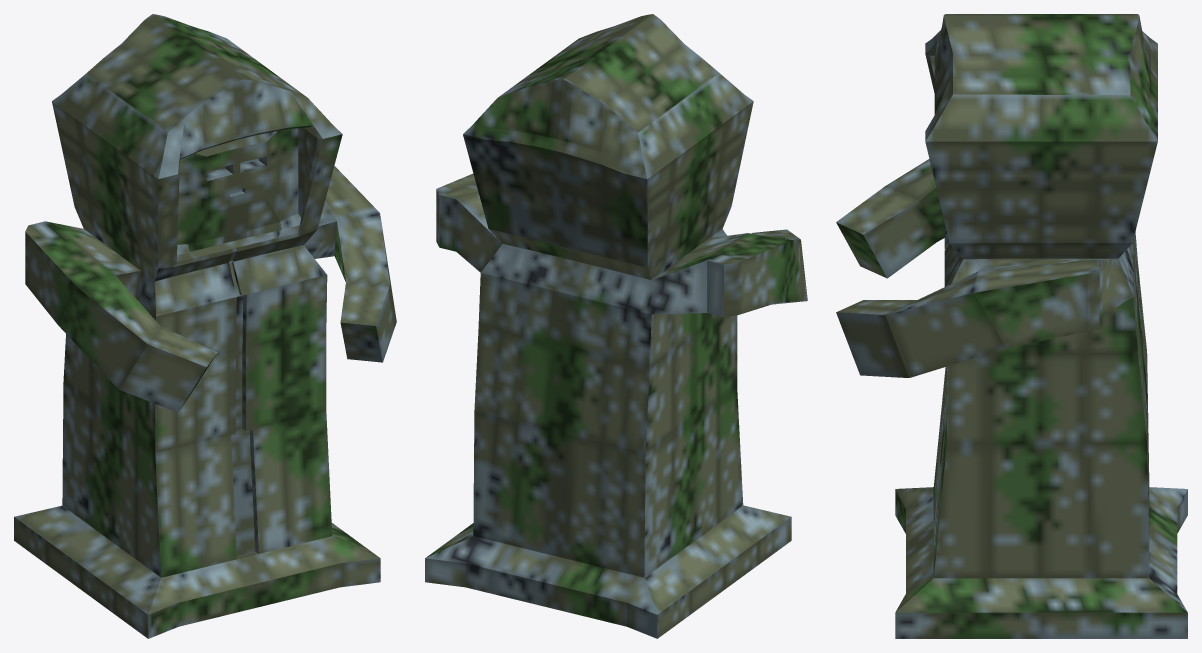
The model's file is Stone_Checkpoint.obj.
3 renders of one model, left to right at view 1: azimuth 30°, elevation 25°; view 2: azimuth 150°, elevation 25°; view 3: azimuth 270°, elevation 25°, orthographic. The views are drawn at different scales.
Parts seen in each view (by area): view 1: Cube.001; view 2: Cube.001; view 3: Cube.001.
Boxes of the visible parts, x1,y1,x2,y2 form: Cube.001: [14, 14, 396, 638]; Cube.001: [425, 14, 807, 638]; Cube.001: [836, 14, 1187, 638].
Size of the model in its own units: 0.6666 by 1.06 by 0.601.
1 material, 1 textured.
